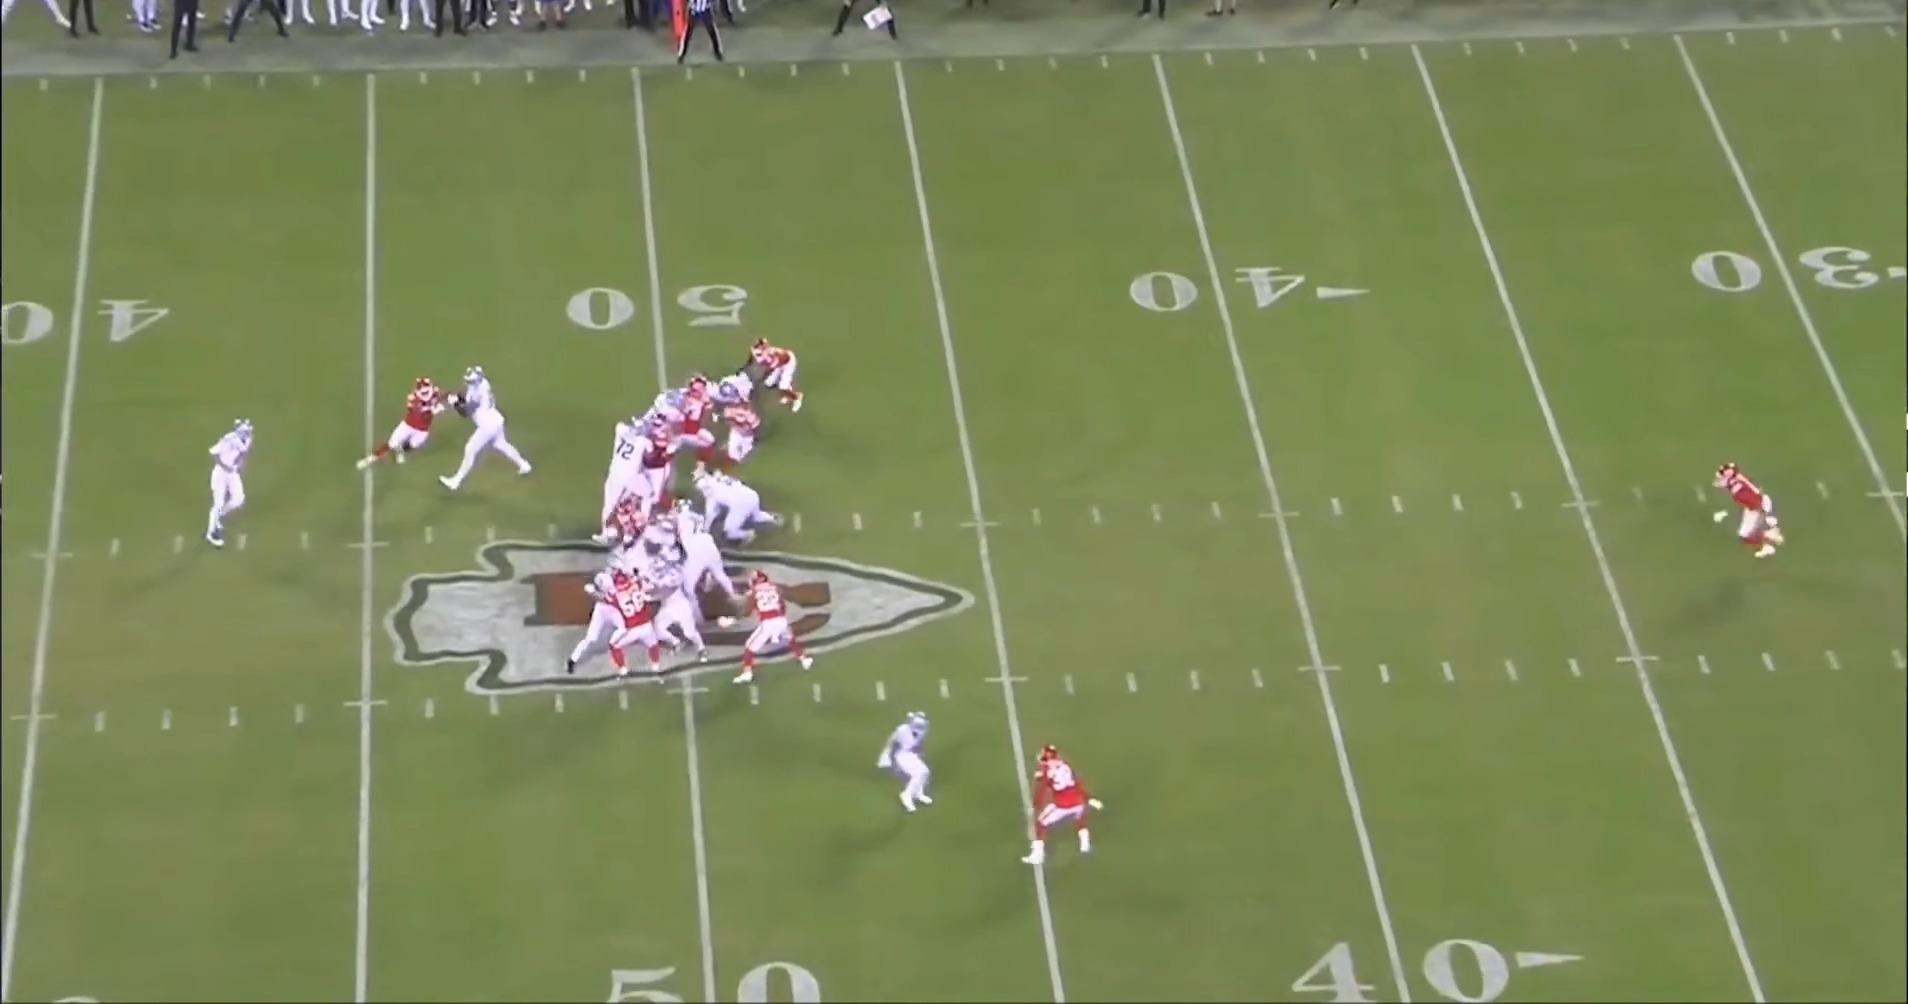player: (444, 366, 541, 497), (1008, 744, 1103, 872), (663, 501, 749, 636), (358, 376, 458, 476), (593, 410, 658, 551), (734, 570, 812, 685), (195, 414, 258, 553), (1706, 458, 1787, 560), (647, 557, 719, 668), (692, 466, 784, 548), (560, 563, 622, 682), (601, 572, 667, 680), (872, 707, 935, 815), (738, 336, 802, 412), (670, 378, 723, 464), (714, 397, 774, 467), (606, 491, 677, 547), (640, 414, 676, 501), (639, 390, 683, 435), (704, 373, 752, 404)
ref: (678, 0, 744, 66)
